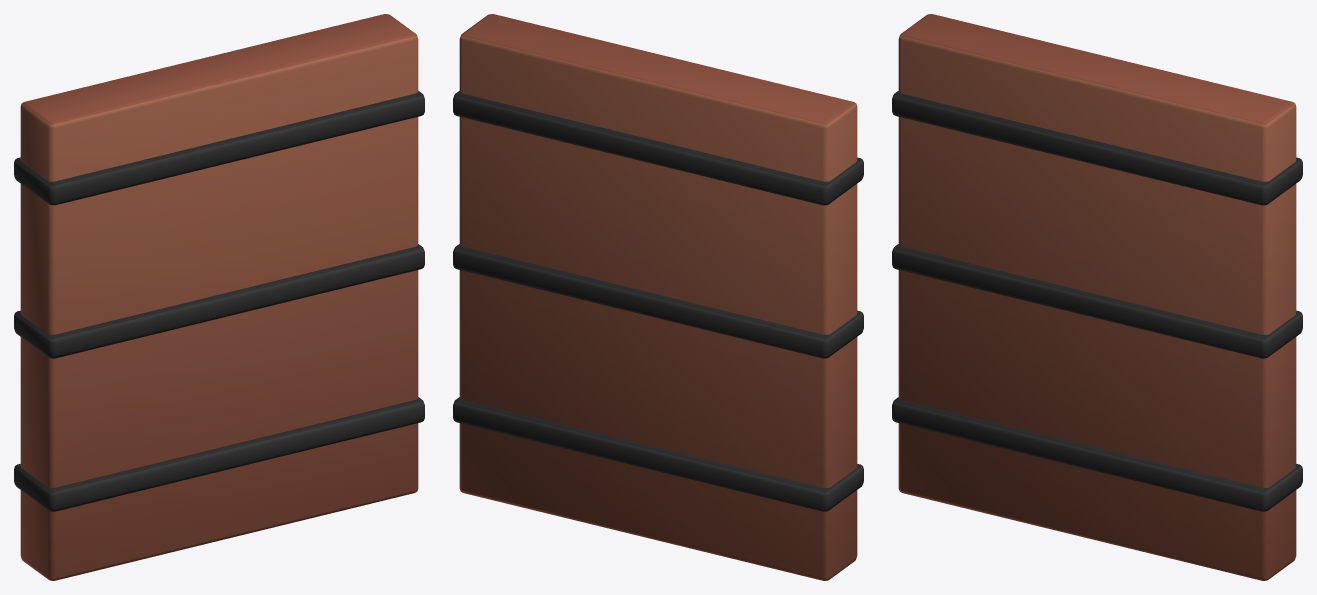
The model's file is castle_door_l.glb.
The picture shows the model from 3 angles, left to right: view 1: azimuth 30°, elevation 25°; view 2: azimuth 150°, elevation 25°; view 3: azimuth 330°, elevation 25°; orthographic projection.
Visible parts, largest first — view 1: castle_door_l; view 2: castle_door_l; view 3: castle_door_l.
Part boxes in pixels (x1=…): castle_door_l: x1=14, y1=14, x2=424, y2=580; castle_door_l: x1=453, y1=14, x2=863, y2=580; castle_door_l: x1=892, y1=14, x2=1302, y2=580.
Bounding box in the file's own units: 2.44 × 2.85 × 0.44.
Materials: 1 (1 with a texture image).
